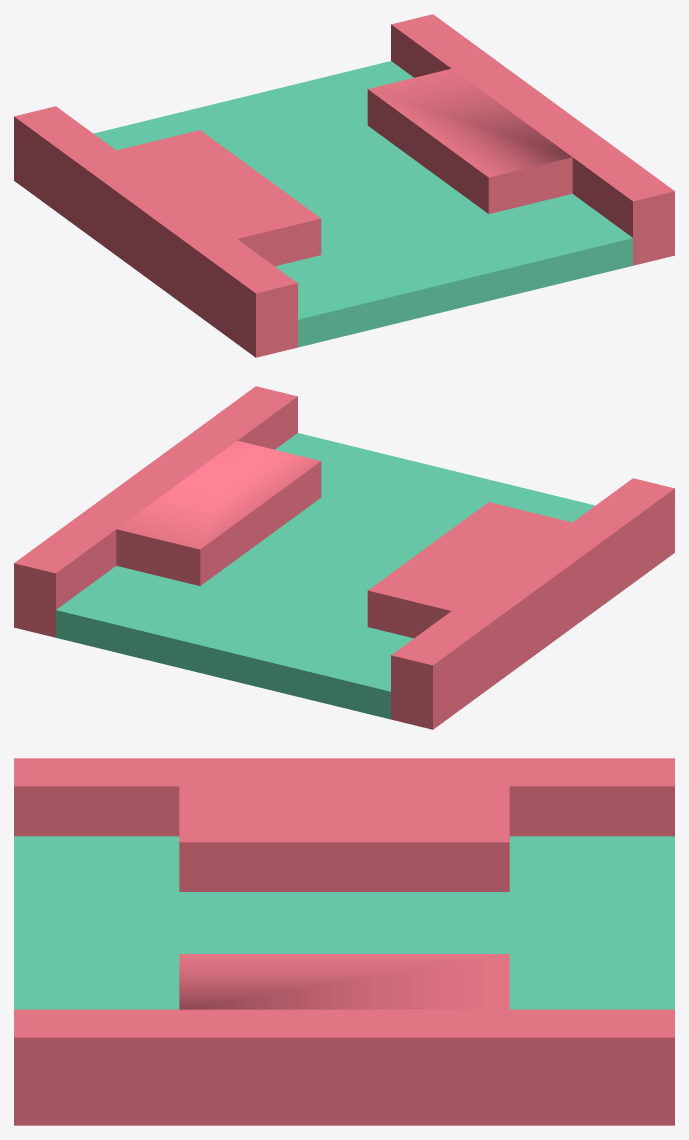
File: myNarrowBlock.fbx
The picture shows the model from 3 angles, top to bottom: view 1: azimuth 30°, elevation 25°; view 2: azimuth 150°, elevation 25°; view 3: azimuth 270°, elevation 25°; orthographic projection. The views are drawn at different scales.
Visible parts, largest first — view 1: narrowBlock, narrowBlock.001, narrowBlock.002; view 2: narrowBlock, narrowBlock.001, narrowBlock.002; view 3: narrowBlock.002, narrowBlock, narrowBlock.001.
Part boxes in pixels (x1,y1,x2,y2): narrowBlock: (93, 61, 632, 347); narrowBlock.001: (14, 106, 321, 357); narrowBlock.002: (367, 14, 674, 265); narrowBlock: (56, 433, 595, 719); narrowBlock.001: (367, 478, 674, 729); narrowBlock.002: (14, 386, 321, 637); narrowBlock.002: (14, 954, 674, 1125); narrowBlock: (14, 836, 674, 1009); narrowBlock.001: (14, 758, 674, 891).
Size of the model in its own units: 450 by 65.99 by 450.
